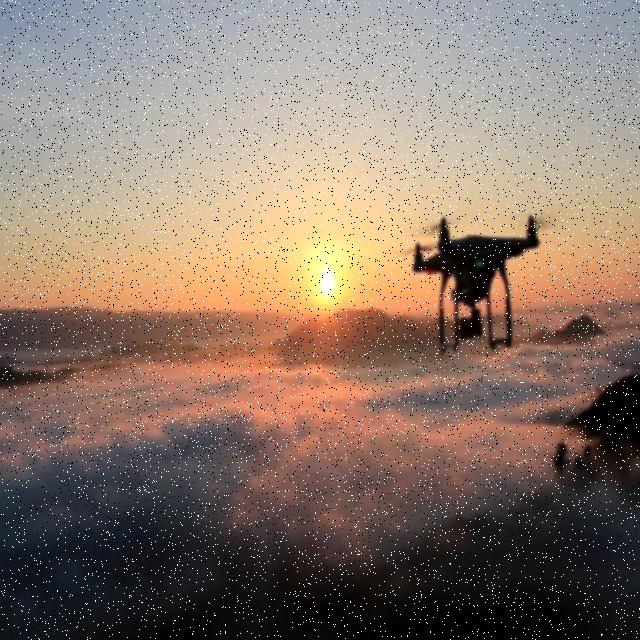UAV: (411, 213, 541, 360)
